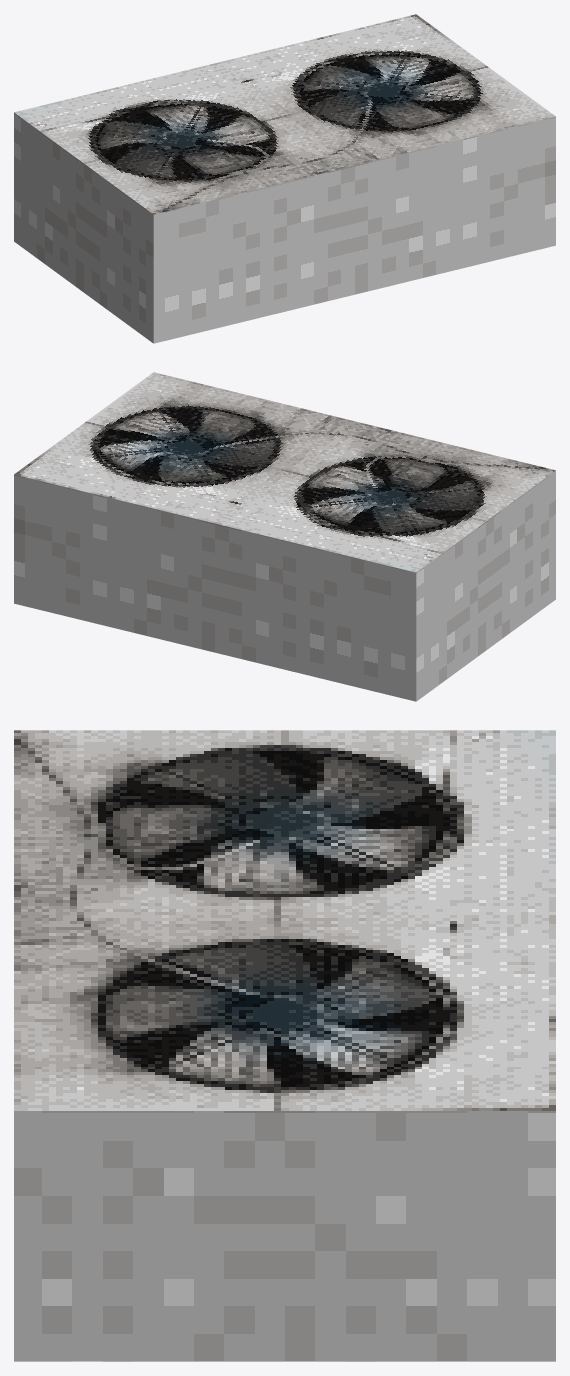
Rendered from Industrial_Air_Conditioner_Horizontal_1.glb.
3 views of the same model, one above another, from view 1: azimuth 30°, elevation 25°; view 2: azimuth 150°, elevation 25°; view 3: azimuth 270°, elevation 25° (orthographic). The views are drawn at different scales.
Parts seen in each view (by area): view 1: Industrial Air Conditioner_Horizontal_1; view 2: Industrial Air Conditioner_Horizontal_1; view 3: Industrial Air Conditioner_Horizontal_1.
Part boxes in pixels (<box>): Industrial Air Conditioner_Horizontal_1: <box>14,14,555,343</box>; Industrial Air Conditioner_Horizontal_1: <box>14,372,555,701</box>; Industrial Air Conditioner_Horizontal_1: <box>14,730,555,1361</box>.
Size of the model in its own units: 0.7063 by 0.2167 by 0.4249.
1 material, 1 textured.
